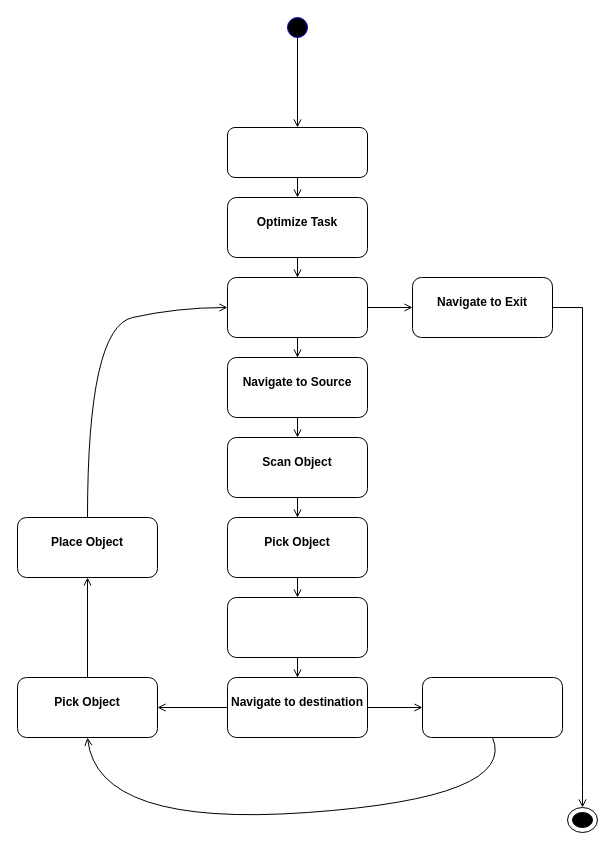
Some shapes in this 615 by 850 pixel diagram are drawn without their labels. Here are the shapes that lost their labels. From the top down, the centre of each, then its label:
At point 297,152: "Get Task".
At point 297,307: "Task Select".
At point 297,627: "Place".
At point 492,707: "Scan Object Hole".
